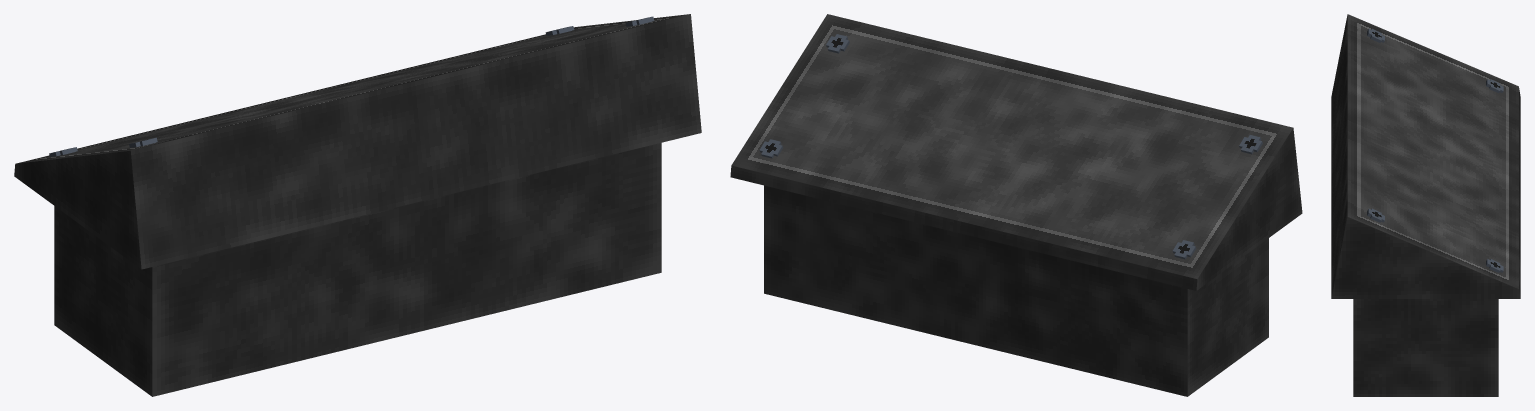
Rendered from desk - merged.gltf.
The picture shows the model from 3 angles, left to right: view 1: azimuth 30°, elevation 25°; view 2: azimuth 150°, elevation 25°; view 3: azimuth 270°, elevation 25°; orthographic projection. The views are drawn at different scales.
Visible parts, largest first — view 1: desk; view 2: desk; view 3: desk.
Part boxes in pixels (left/top/right/bottom): desk: left=14, top=14, right=701, bottom=396; desk: left=730, top=14, right=1302, bottom=396; desk: left=1331, top=14, right=1520, bottom=396.
Size of the model in its own units: 4.12 by 1.8 by 1.62.
Materials: 2 (2 with a texture image).
